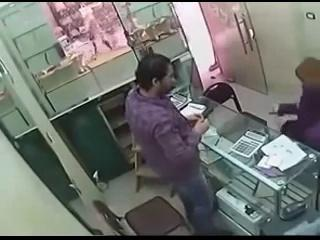Normal: (124, 54, 218, 232)
